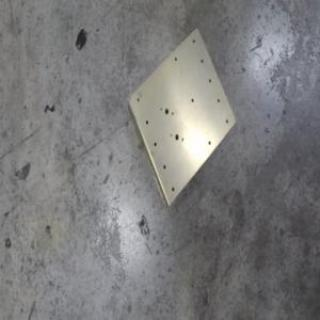MetalSheettrack_idkeyframe: (125, 26, 236, 209)
